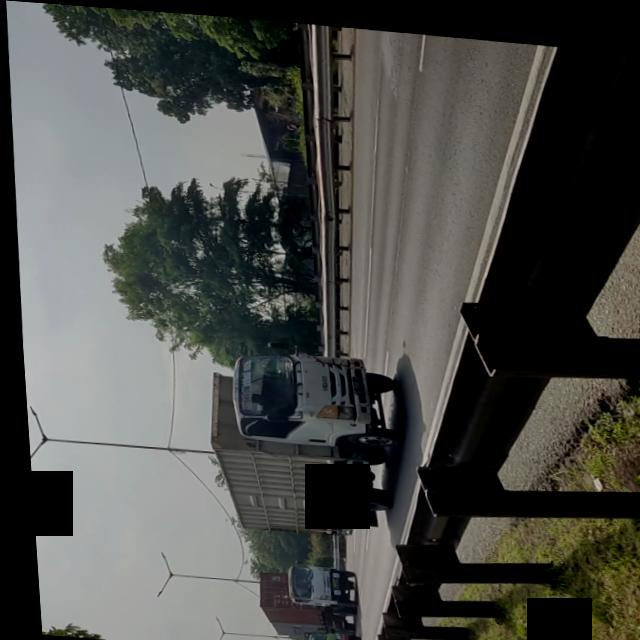Golongan II: (195, 334, 406, 537)
